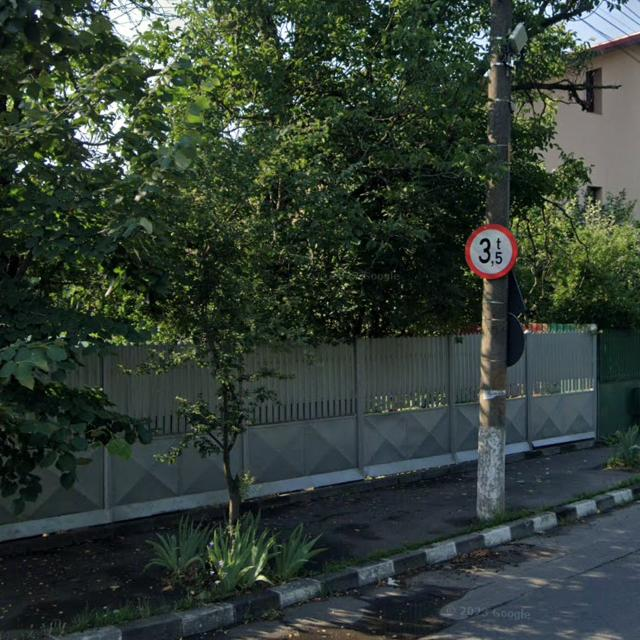forb_weight_over_3.5t: (465, 225, 519, 280)
